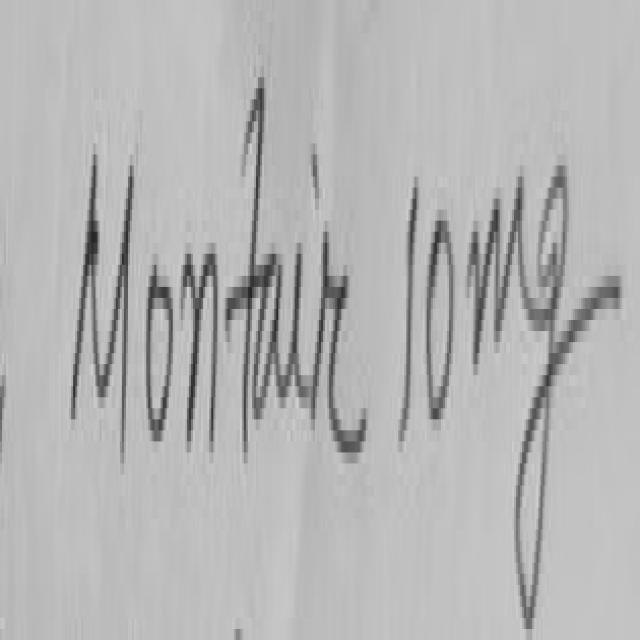0: (429, 221, 455, 414)
1: (400, 177, 418, 436)
M: (71, 154, 134, 458)
a: (251, 250, 284, 418)
g: (513, 160, 573, 629)
i: (284, 234, 307, 418), (310, 139, 319, 188)
m: (469, 175, 542, 402)
n: (181, 243, 218, 461)
o: (146, 265, 173, 436)
r: (309, 248, 365, 447)
t: (233, 74, 265, 464)
